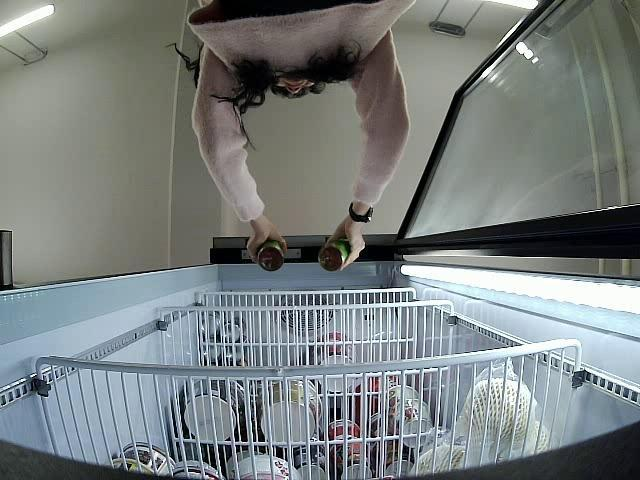19_17cha: (319, 239, 352, 272), (258, 240, 284, 272)
